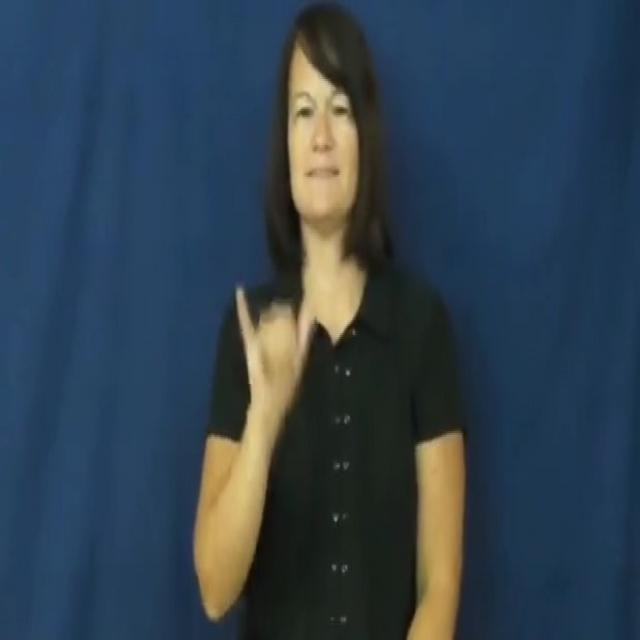hot: (228, 266, 321, 416)
